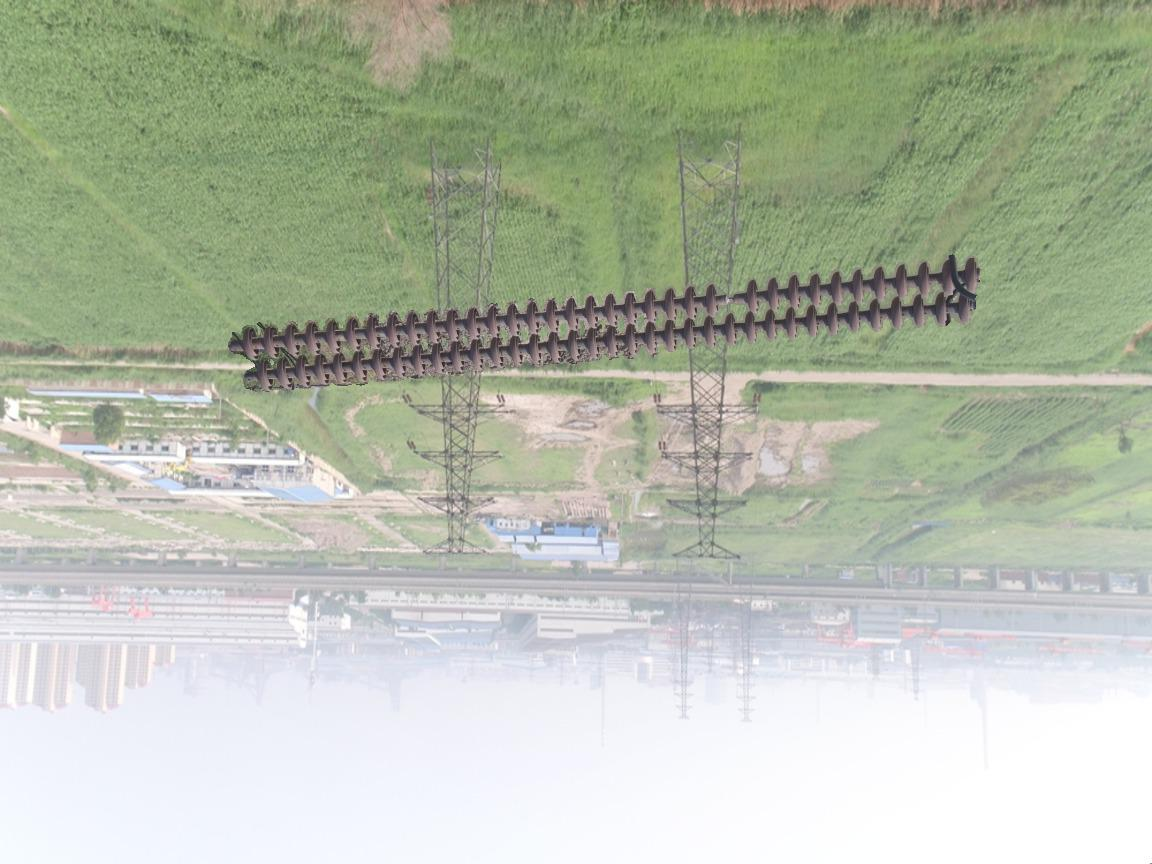insulator: (228, 251, 983, 396)
insulator_stringdrop: (703, 277, 763, 319)
